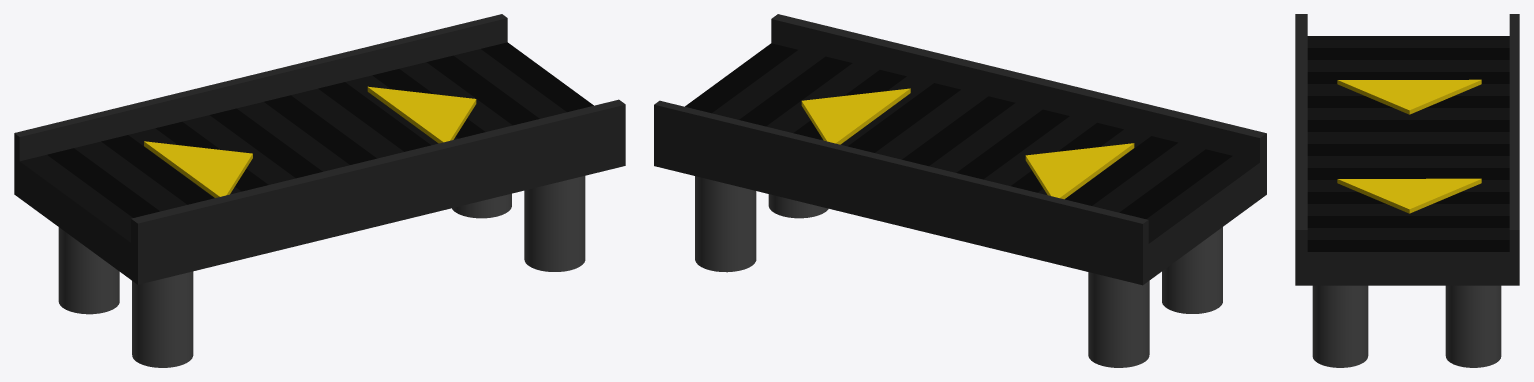
The model's file is belt.fbx.
The picture shows the model from 3 angles, left to right: view 1: azimuth 30°, elevation 25°; view 2: azimuth 150°, elevation 25°; view 3: azimuth 270°, elevation 25°; orthographic projection. The views are drawn at different scales.
Visible parts, largest first — view 1: Main, BlackBelt, LightBelt, BackLegs, FrontLegs, Arrow2, Arrow; view 2: Main, BlackBelt, LightBelt, BackLegs, FrontLegs, Arrow, Arrow2; view 3: BlackBelt, LightBelt, Main, FrontLegs, Arrow2, Arrow.
Boxes of the visible parts, x1,y1,x2,y2 form: Main: [14, 14, 625, 284]; BlackBelt: [47, 42, 593, 217]; LightBelt: [20, 49, 566, 242]; BackLegs: [58, 227, 193, 367]; FrontLegs: [452, 176, 585, 271]; Arrow2: [367, 86, 476, 143]; Arrow: [144, 141, 252, 197]; Main: [654, 14, 1266, 285]; BlackBelt: [685, 43, 1232, 218]; LightBelt: [712, 50, 1259, 243]; BackLegs: [1088, 227, 1222, 367]; FrontLegs: [695, 176, 828, 272]; Arrow: [1025, 143, 1134, 199]; Arrow2: [801, 88, 910, 144]; BlackBelt: [1307, 48, 1509, 251]; LightBelt: [1307, 36, 1509, 239]; Main: [1295, 14, 1519, 285]; FrontLegs: [1312, 285, 1501, 367]; Arrow2: [1337, 178, 1481, 213]; Arrow: [1337, 79, 1481, 114].
Size of the model in its own units: 103 by 32.6 by 45.2.
